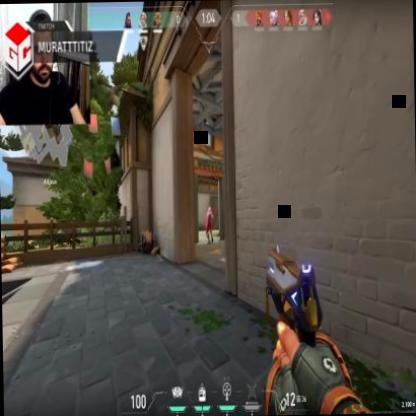enemy: (204, 206, 214, 243)
enemy_head: (207, 206, 211, 212)
